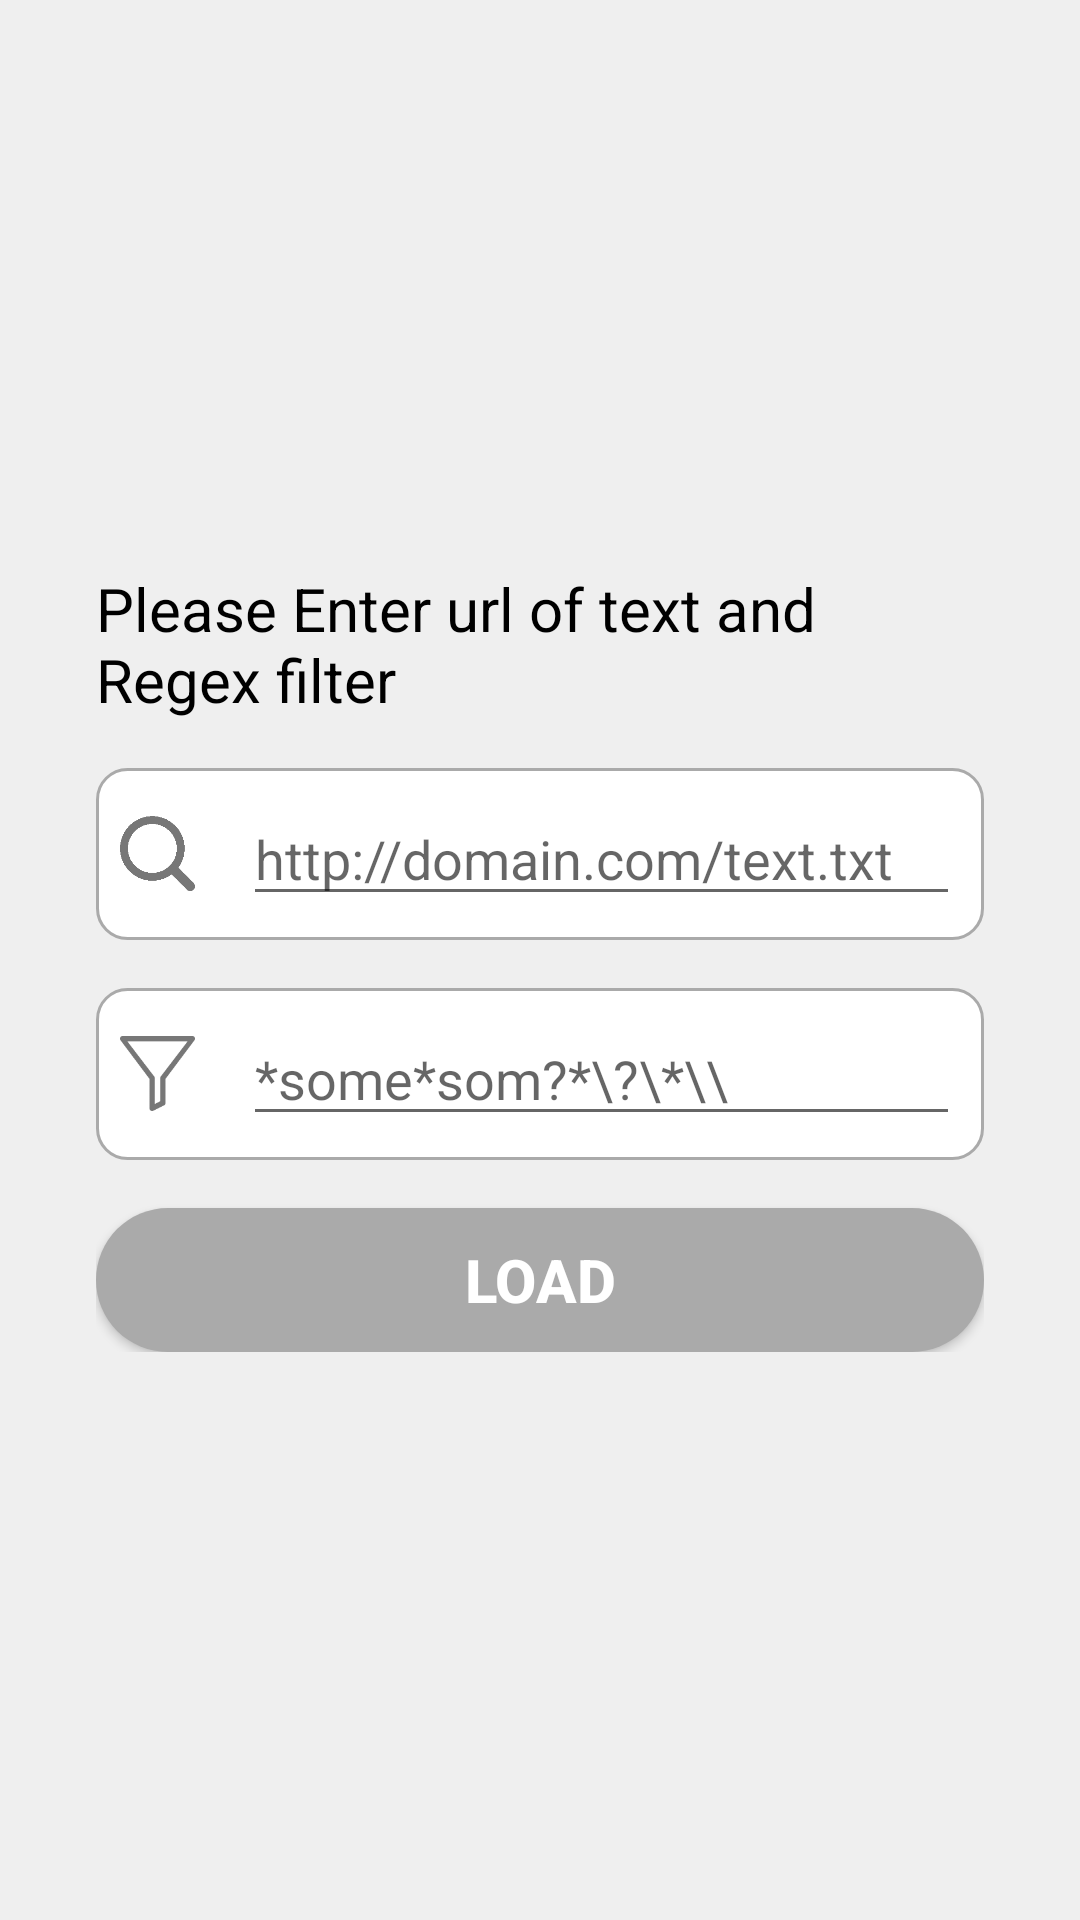

Icon bounding boxes for this 1080*1920 phone screenshot, format detection(x1, y1, x2, y2):
filter: detection(120, 1036, 195, 1111)
